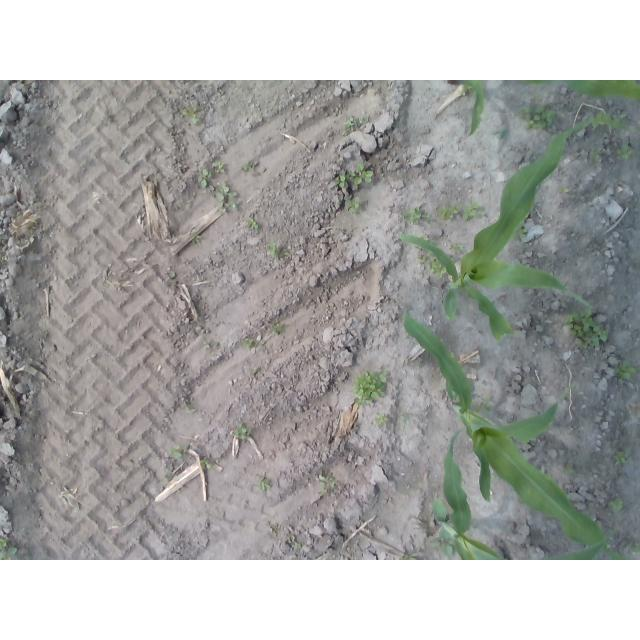Maize: (402, 308, 640, 561), (401, 119, 635, 342), (430, 428, 610, 560), (449, 80, 640, 140)
Weeds: (564, 308, 609, 349), (353, 369, 388, 407), (519, 106, 557, 130), (216, 181, 240, 213), (432, 528, 456, 559), (347, 163, 374, 185), (462, 200, 486, 220), (614, 360, 639, 379), (318, 473, 338, 495), (401, 207, 424, 226), (429, 257, 448, 280), (0, 537, 18, 560), (589, 111, 611, 129), (436, 204, 460, 220), (181, 106, 199, 126), (232, 423, 252, 440), (168, 444, 188, 460), (613, 448, 631, 465), (475, 395, 491, 413), (197, 168, 211, 188), (512, 224, 528, 241), (459, 83, 477, 98), (346, 196, 361, 213), (617, 143, 635, 157), (607, 497, 622, 512), (270, 322, 287, 335), (266, 241, 278, 259), (415, 235, 430, 249), (490, 126, 506, 139), (589, 150, 604, 163), (375, 413, 389, 426), (245, 216, 259, 229), (212, 159, 225, 173), (334, 175, 347, 188), (258, 478, 271, 491), (199, 458, 213, 470), (628, 541, 640, 554), (344, 117, 357, 128), (242, 161, 255, 172), (183, 402, 197, 412), (450, 243, 462, 254), (613, 113, 628, 121), (402, 552, 417, 560), (242, 338, 254, 348), (564, 463, 576, 473), (279, 247, 290, 257), (417, 255, 429, 264), (201, 339, 211, 349), (161, 475, 173, 483), (191, 235, 201, 244), (359, 116, 370, 124), (423, 214, 433, 222), (293, 541, 303, 549), (403, 413, 410, 424), (250, 366, 258, 374), (560, 187, 569, 194), (168, 271, 176, 278), (259, 339, 265, 345)
